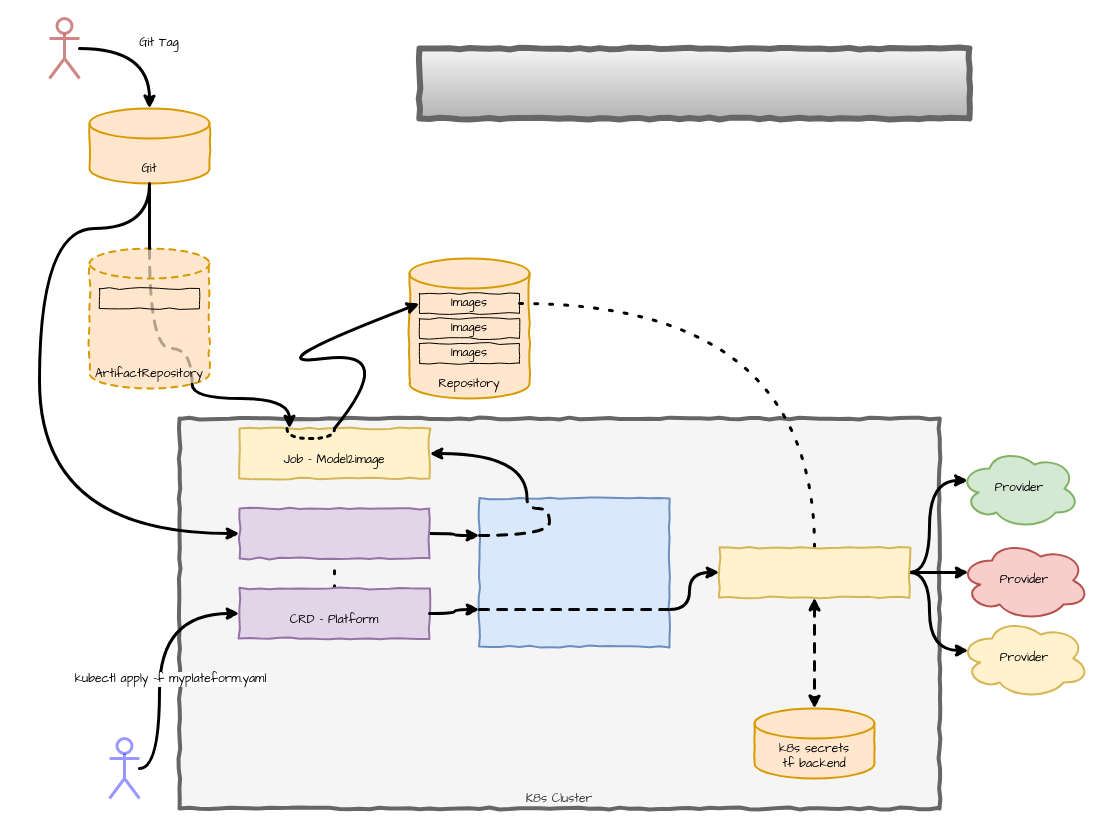
This 1108x837 diagram has some shape labels left out. The centre of each missing label's shape, as x and y in pixels:
"CRD - Model" goes at point 334,533.
"DevOps" goes at point 124,768.
"Infra Developper" goes at point 64,48.
"Job - Terraform" goes at point 814,572.
"kappform" goes at point 694,83.
"Operator - Kappform" goes at point 574,572.
"terraform zip" goes at point 149,298.
